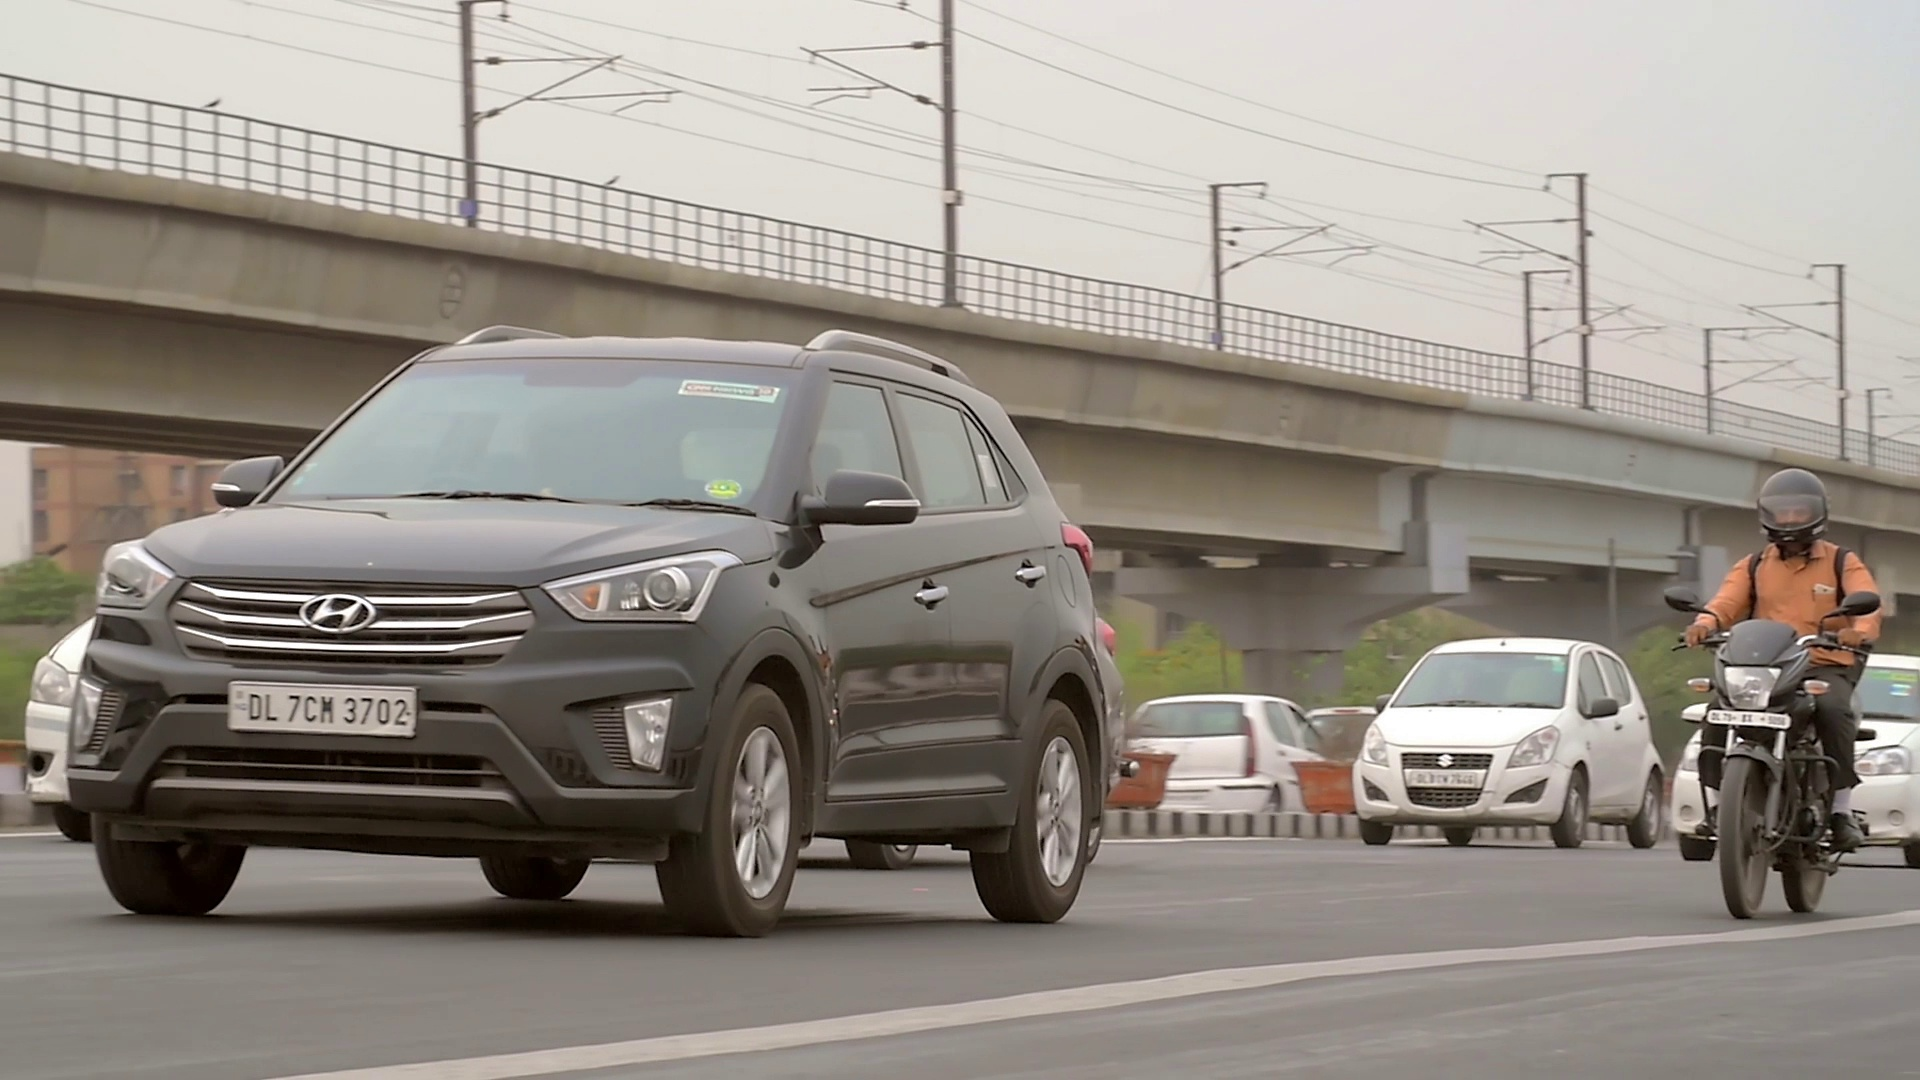bike: (1683, 469, 1867, 926)
car: (66, 286, 1102, 926), (1342, 626, 1671, 855)
